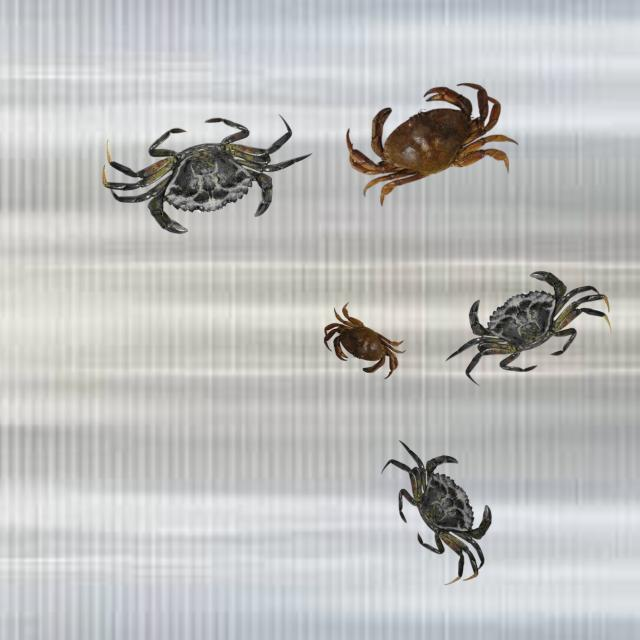European_Green_Crab: (95, 98, 317, 253), (432, 244, 618, 402), (364, 419, 522, 591)
